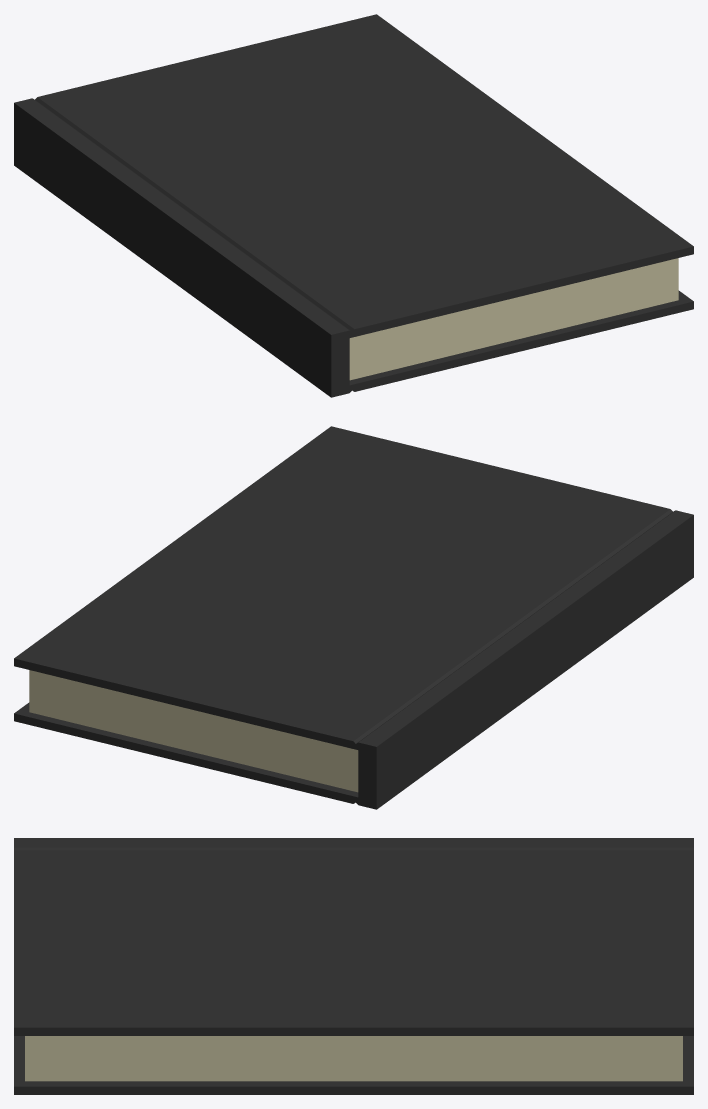
The model's file is Book_Programmers_mat.fbx.
3 renders of one model, top to bottom at view 1: azimuth 30°, elevation 25°; view 2: azimuth 150°, elevation 25°; view 3: azimuth 270°, elevation 25°, orthographic. The views are drawn at different scales.
Parts seen in each view (by area): view 1: Book_Programmers_mat; view 2: Book_Programmers_mat; view 3: Book_Programmers_mat.
Boxes of the visible parts, x1=… form: Book_Programmers_mat: x1=14, y1=14, x2=693, y2=397; Book_Programmers_mat: x1=14, y1=426, x2=693, y2=809; Book_Programmers_mat: x1=14, y1=838, x2=693, y2=1094.
Bounding box in the file's own units: 11.52 × 1.91 × 17.45.
